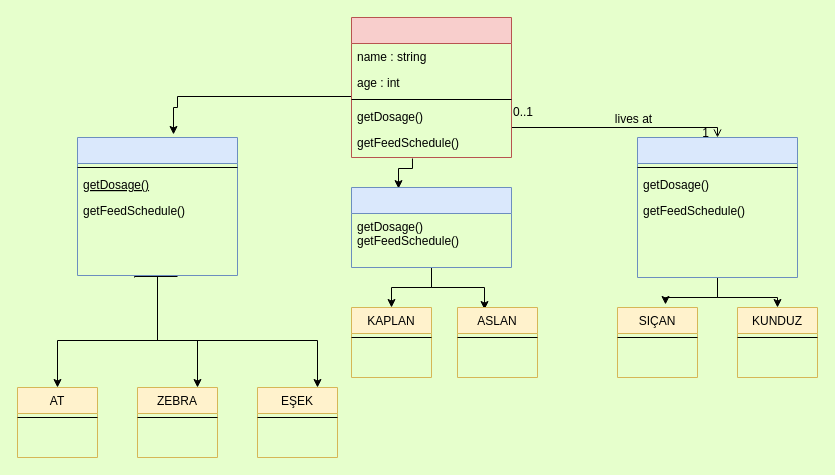
Image size: 835x475. Some labels were removed from this diagram. Each missing label, with the box of its shape:
ATLAR: (76, 136, 238, 276)
HAYVANLAR: (350, 16, 512, 158)
KEDİGİLLER: (350, 186, 512, 268)
KEMİRGENLER: (636, 136, 798, 278)
